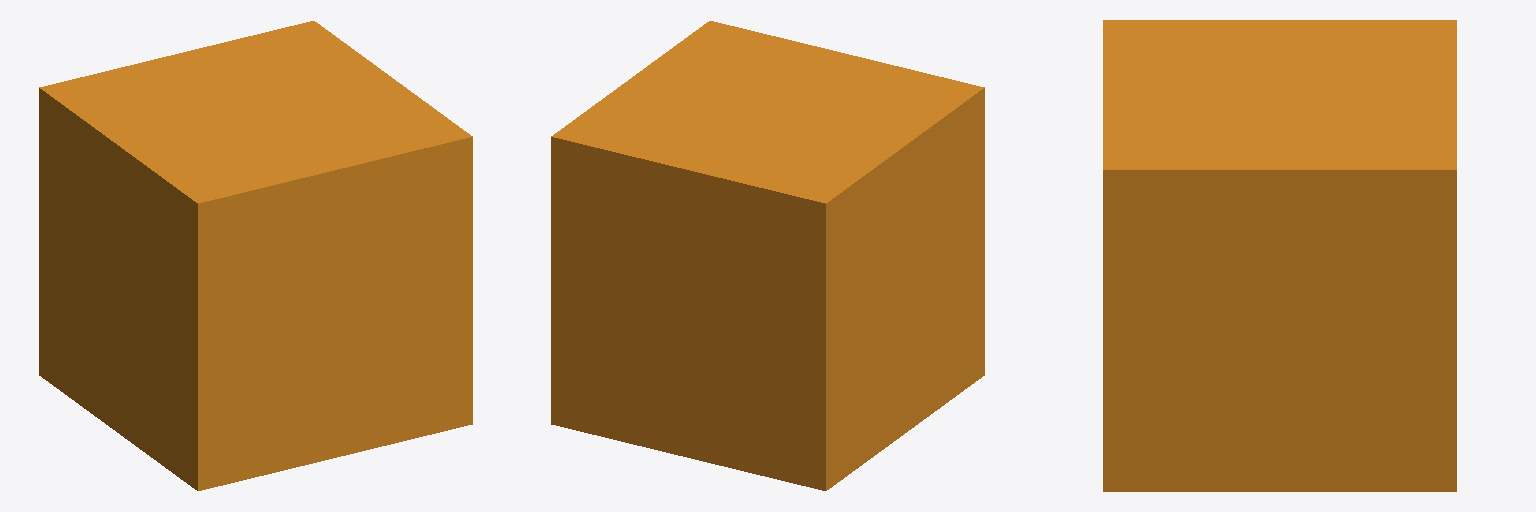
URDF robot description (filter_test):
<?xml version="1.0"?>
<robot name="filter_test">

    <link name="box1">
    <visual>
      <geometry>
        <box size="1 1 1"/>
      </geometry>
      <material name="box1_mat">
        <color rgba="0.9 0.6 0.2 1"/>
      </material>
    </visual>
    <collision>
      <geometry>
        <box size="1 1 1"/>
      </geometry>
    </collision>
    <inertial>
      <mass value="1"/>
    </inertial>
  </link>

  <link name="box2">
    <visual>
      <geometry>
        <box size="1 1 1"/>
      </geometry>
      <material name="box2_mat">
        <color rgba="0.3 0.5 0.7 1"/>
      </material>
    </visual>
    <collision>
      <geometry>
          <box size="1 1 1"/>
      </geometry>
    </collision>
    <inertial>
      <mass value="1"/>
    </inertial>
  </link>

  <link name="box3">
    <visual>
      <geometry>
        <box size="1 1 1"/>
      </geometry>
      <origin xyz="0 0 0"/>
      <material name="box3_mat">
        <color rgba="0.1 0.1 0.3 1"/>
      </material>
    </visual>
    <collision>
      <geometry>
        <box size="1 1 1"/>
      </geometry>
      <origin xyz="0 0 0"/>
    </collision>
    <inertial>
      <mass value="1"/>
      <origin xyz="0 0 0"/>
    </inertial>
  </link>

  <joint name="box1_to_box2" type="prismatic">
    <axis xyz="1 0 0"/>
    <origin xyz="0 0 0"/>
    <parent link="box1"/>
    <child link="box2"/>
    <limit effort="1000.0" lower="-4" upper="4" velocity="100"/>
  </joint>

  <joint name="box2_to_box3" type="prismatic">
    <axis xyz="1 0 0"/>
    <origin xyz="0 0 0"/>
    <parent link="box2"/>
    <child link="box3"/>
    <limit effort="1000.0" lower="-4" upper="4" velocity="100"/>
  </joint>

</robot>

--- Facts derived from the render (not from the file) ---
The picture shows the robot from 3 angles, left to right: view 1: azimuth 30°, elevation 25°; view 2: azimuth 150°, elevation 25°; view 3: azimuth 270°, elevation 25°; orthographic projection.
Model filter_test with 3 links and 2 joints (2 prismatic), rooted at box1, posed every joint at zero.
Visible links, largest first — view 1: box1; view 2: box1; view 3: box1.
Boxes of the visible links, x1,y1,x2,y2 form: box1: [39, 21, 472, 490]; box1: [551, 21, 984, 490]; box1: [1103, 20, 1456, 491].
Bounding box of the posed robot: 1 × 1 × 1 m (x, y, z).
Geometry: primitives only (box / cylinder / sphere), no mesh files.
